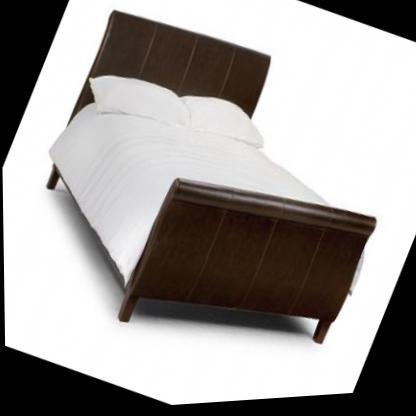Bed: (0, 0, 416, 408)
